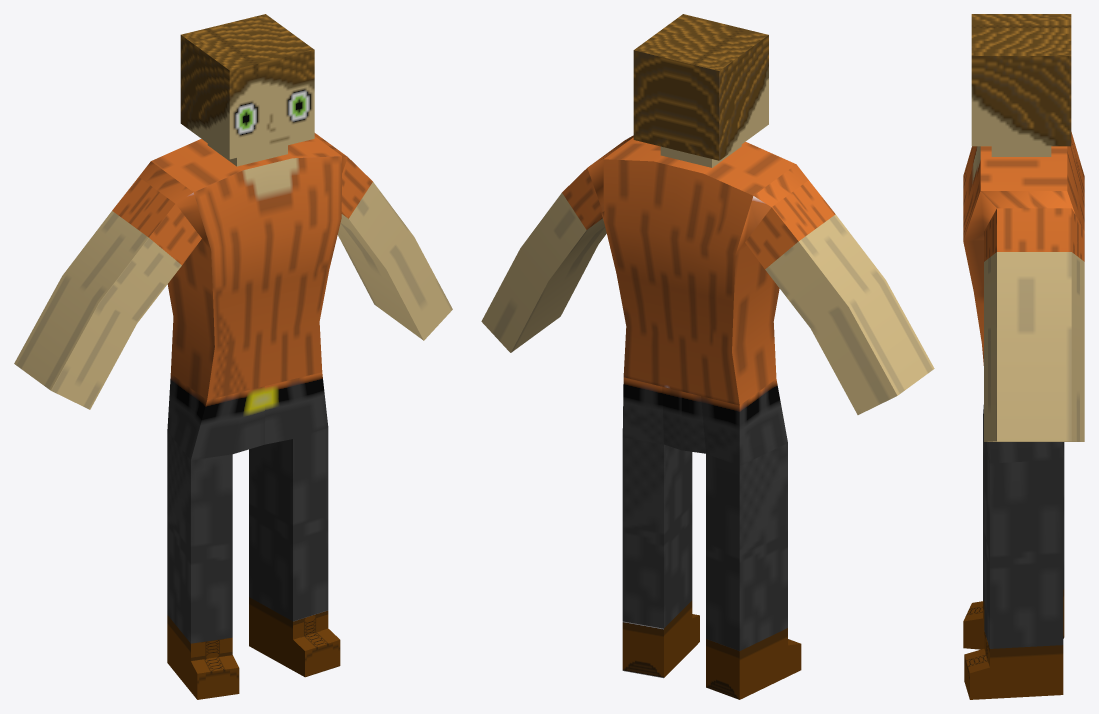
File: Character Past.fbx
The picture shows the model from 3 angles, left to right: view 1: azimuth 30°, elevation 25°; view 2: azimuth 150°, elevation 25°; view 3: azimuth 270°, elevation 25°; orthographic projection.
Visible parts, largest first — view 1: Character; view 2: Character; view 3: Character.
Part boxes in pixels (x1,y1,x2,y2): Character: [14, 14, 452, 699]; Character: [481, 14, 934, 699]; Character: [963, 14, 1084, 699].
Size of the model in its own units: 6.33 by 9.24 by 1.61.
